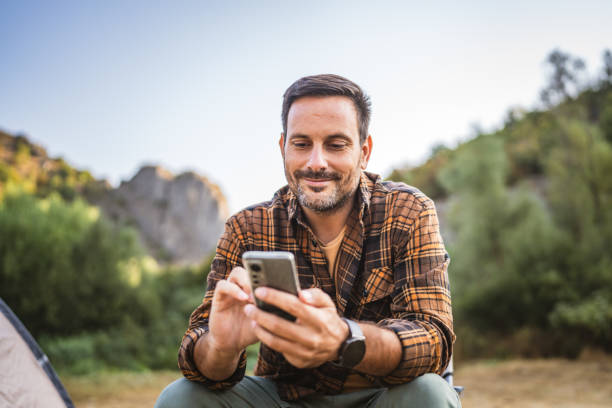Male: (161, 77, 476, 408)
